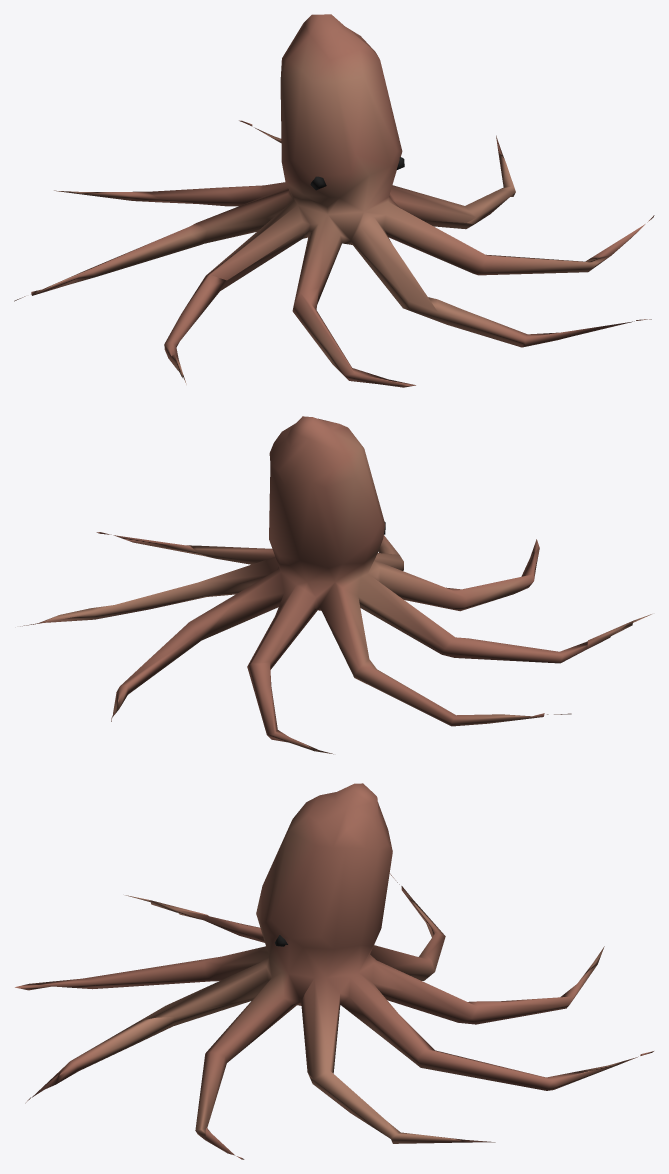
File: krake.glb
3 renders of one model, top to bottom at view 1: azimuth 30°, elevation 25°; view 2: azimuth 150°, elevation 25°; view 3: azimuth 270°, elevation 25°, orthographic. The views are drawn at different scales.
Parts seen in each view (by area): view 1: lack; view 2: lack; view 3: lack.
Part boxes in pixels (x1,y1,x2,y2): lack: (14, 14, 654, 387); lack: (20, 416, 651, 754); lack: (15, 783, 653, 1159).
Size of the model in its own units: 1.47 by 0.6099 by 1.39.
